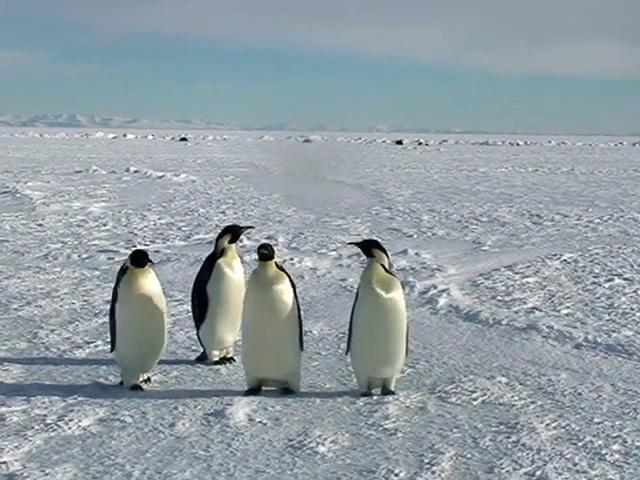animal: (346, 239, 407, 395)
